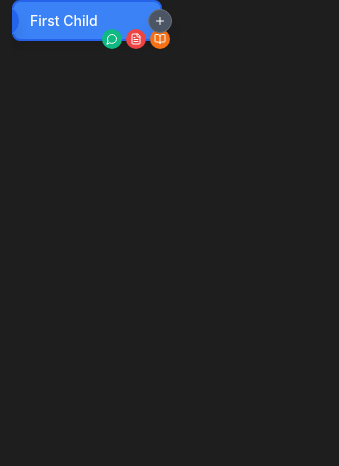
Scenario: MindMapNode › context menu › should show collapse/expand option for nodes with children
Step 1. Right-click the element showing "First Child" → (87, 20), box [12,0,162,41]
Wait 600 ms
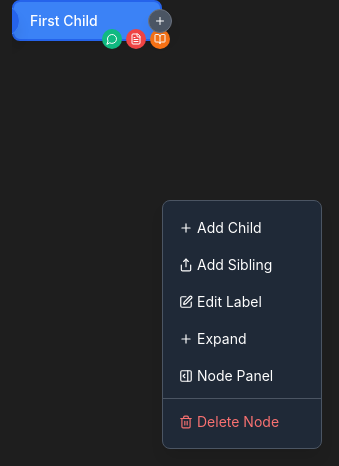
Now the button "Expand" is shown, box [163,320,321,357]
